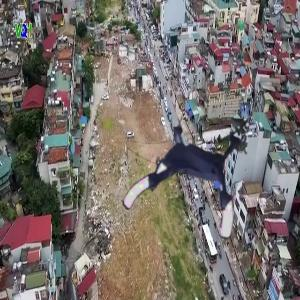drone: (124, 116, 247, 239)
